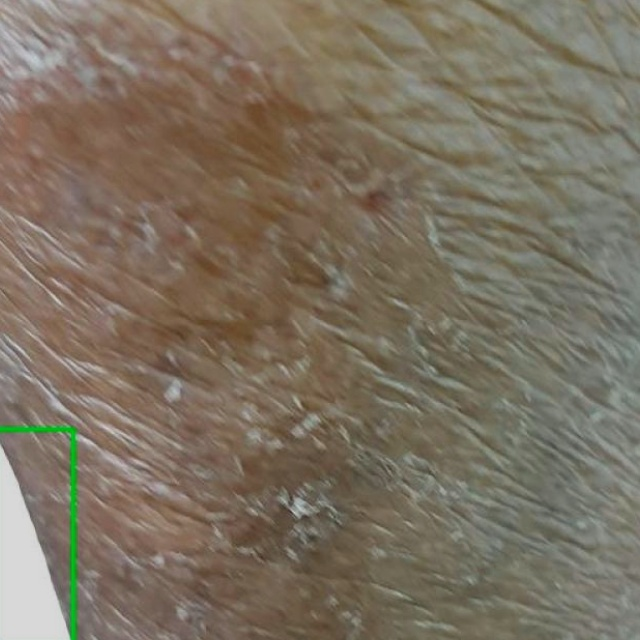Tinea Corporis: (0, 429, 73, 639)
